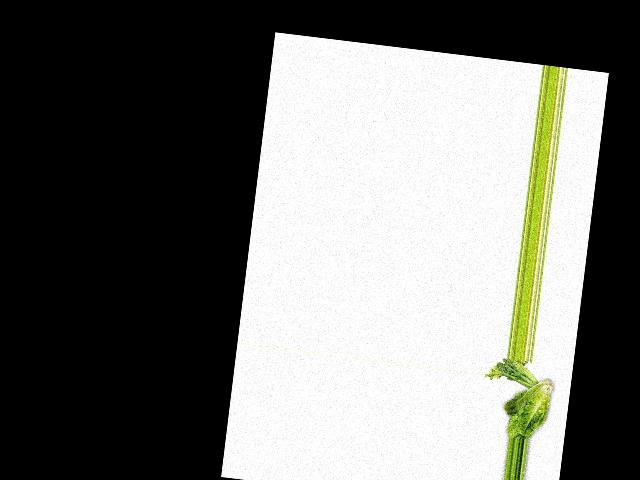lettuce: (495, 370, 552, 442)
